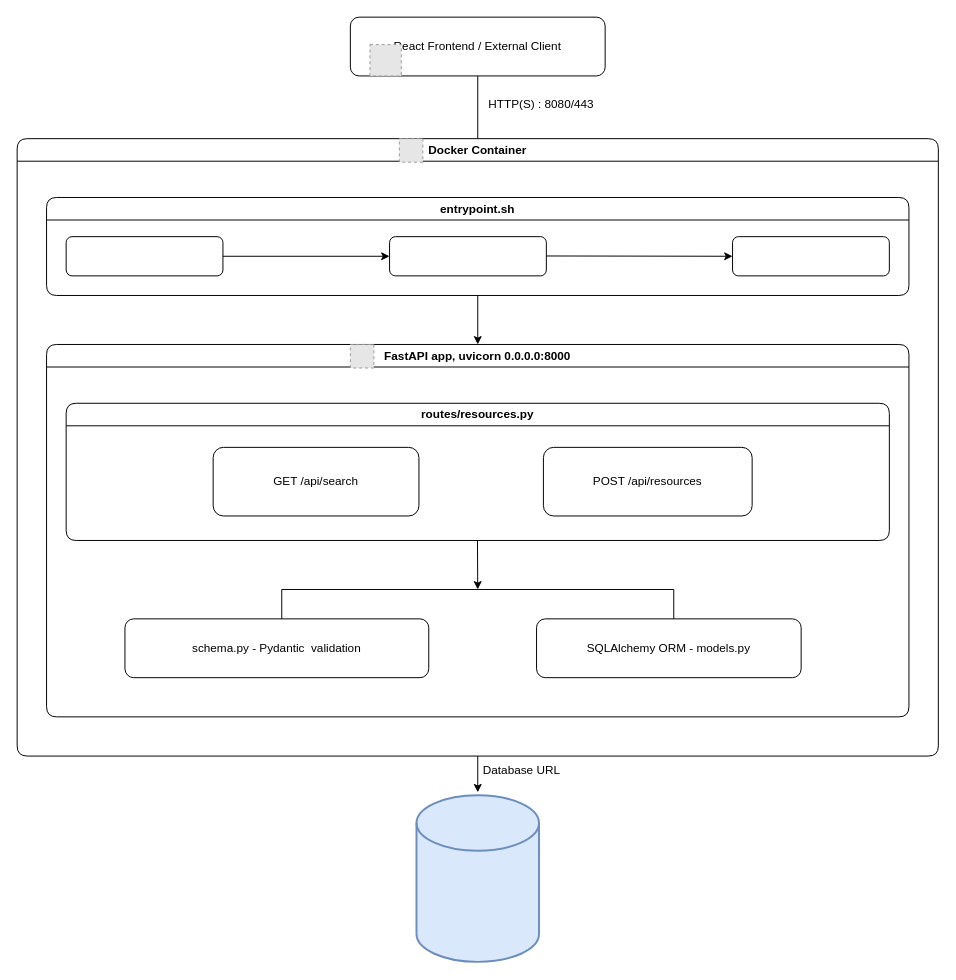
Some shapes in this 956 by 980 pixel diagram are drawn without their labels. Grey dashed boxes stand in for pictures. Each missing label, with the centre of its shape:
create_all() Creates DB tables: point 144,256
PostgresSQL Database: point 477,878
seed.py Load initial resources: point 467,256
uvicorn main:app Start API server :8000: point 810,256
